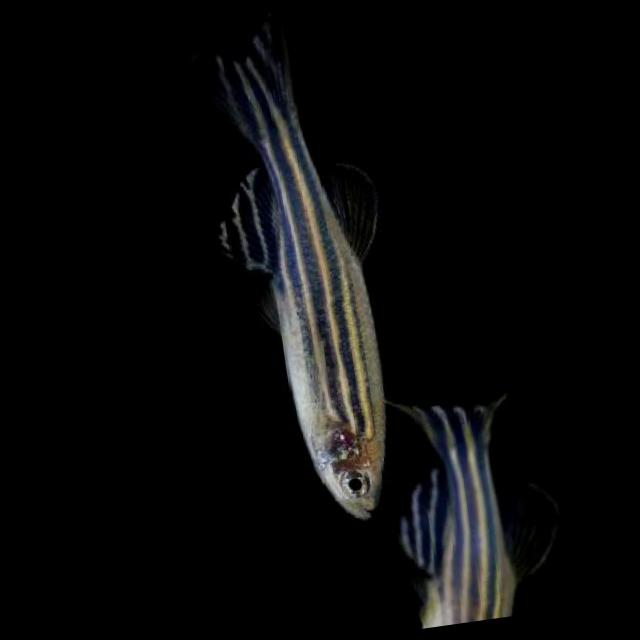ZebraFish: (185, 0, 421, 533)
